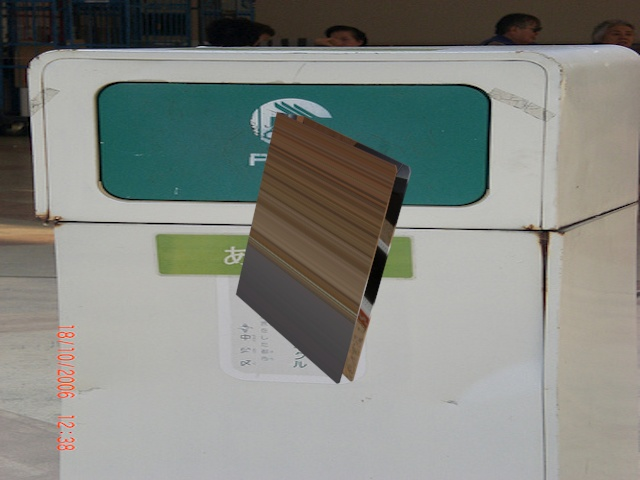ring_binder: (227, 105, 416, 385)
